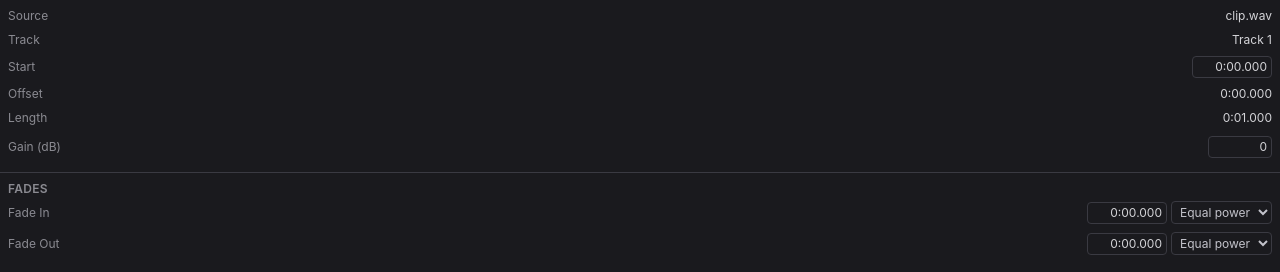
Test: fade length inputs — bound to the store clamp, local-draft pattern › echoes the STORE clamp when the request exceeds the clip length (C4 — no UI clamp)
The width and height of the screenshot is (1280, 272).
Replace the text in the field named "Fade in length" with "999" at [1127, 212], box x1=1087 y1=202 x2=1167 y2=224
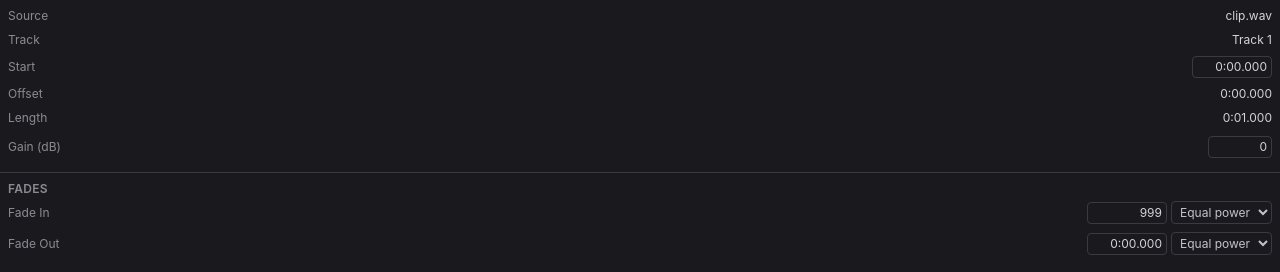
Leave the field named "Fade in length", box x1=1087 y1=202 x2=1167 y2=224
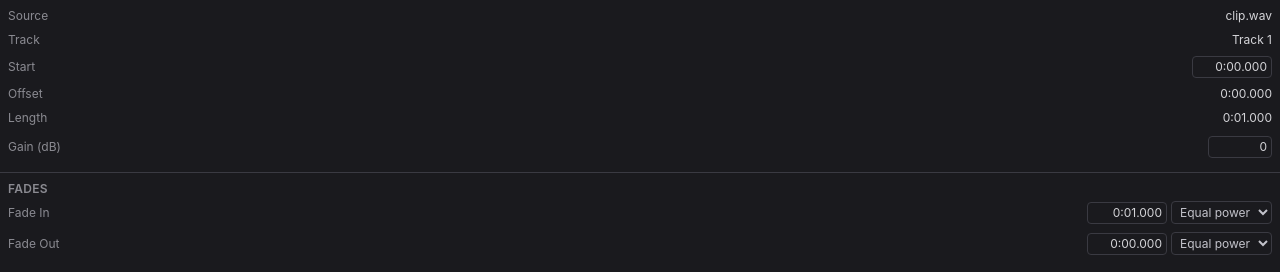
Expected: the field named "Fade in length" holds "0:01.000"
Replace the text in the field named "Fade in length" with "999" at [1127, 212], box x1=1087 y1=202 x2=1167 y2=224
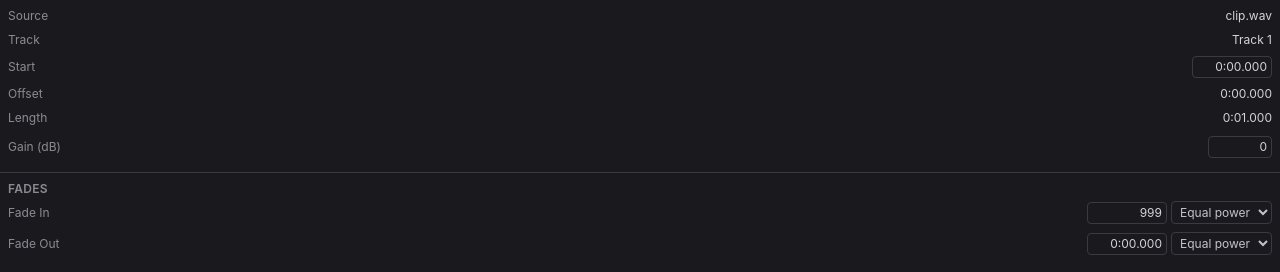
Leave the field named "Fade in length", box x1=1087 y1=202 x2=1167 y2=224
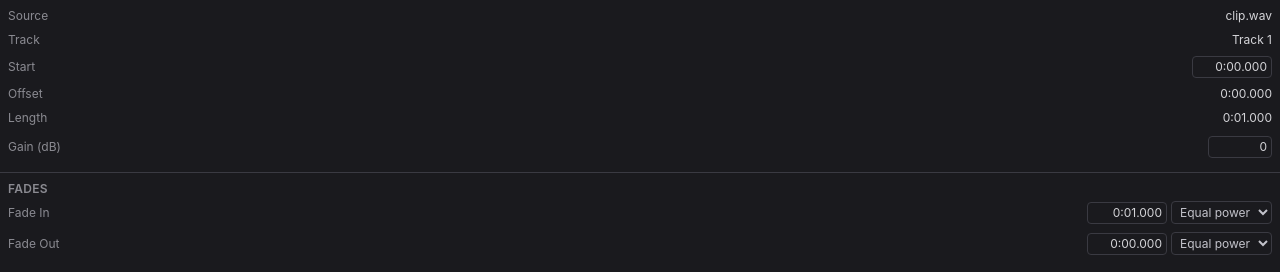
Expected: the field named "Fade in length" holds "0:01.000", x1=1087 y1=202 x2=1167 y2=224
